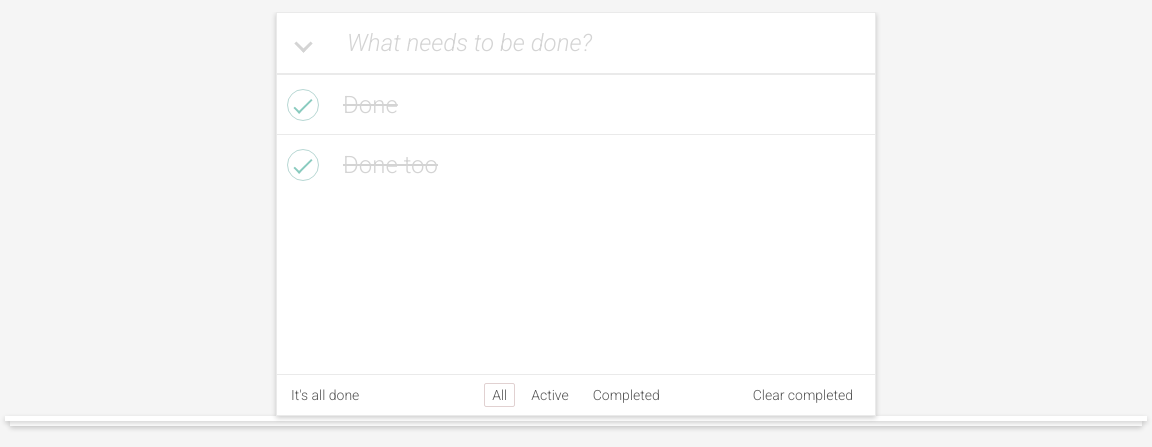
TodoWidget › Очищает завершённые задачи (очистилось всё)
What coordinates should you click on to do the following:
click the button "Clear completed"
I would click on:
 (803, 395)
Its box is [745, 383, 861, 407].
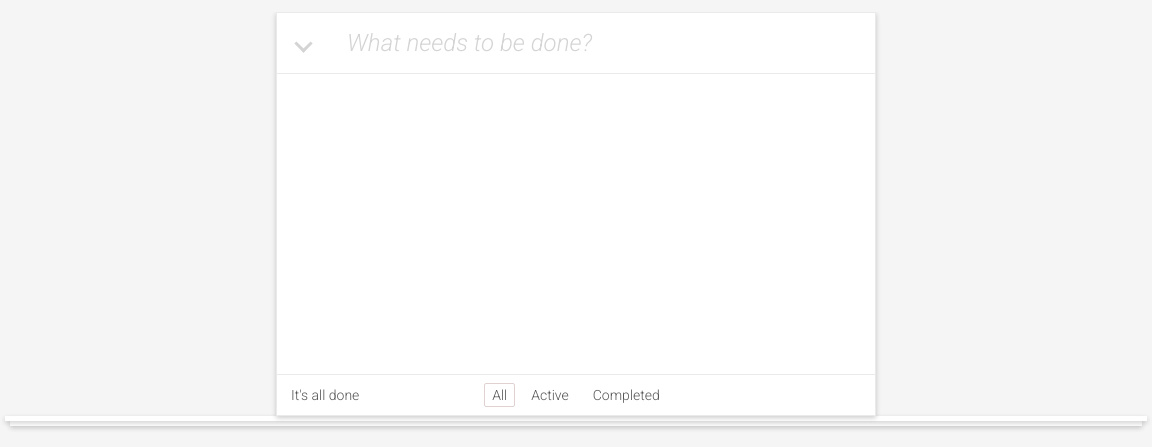
Expected: the element with test id "todo-item" is gone
